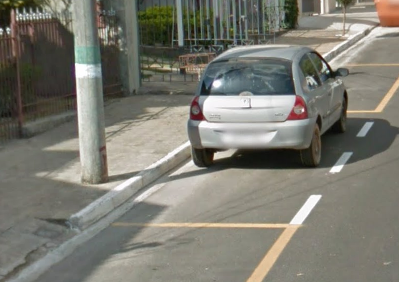car: (183, 37, 355, 174)
